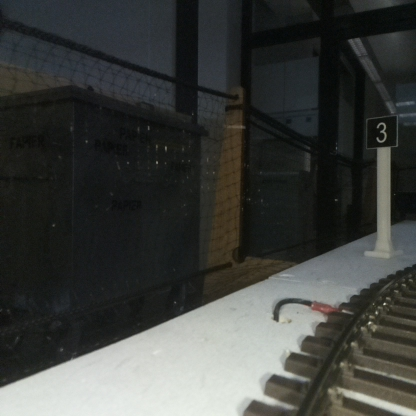black-info-3: (366, 117, 397, 255)
